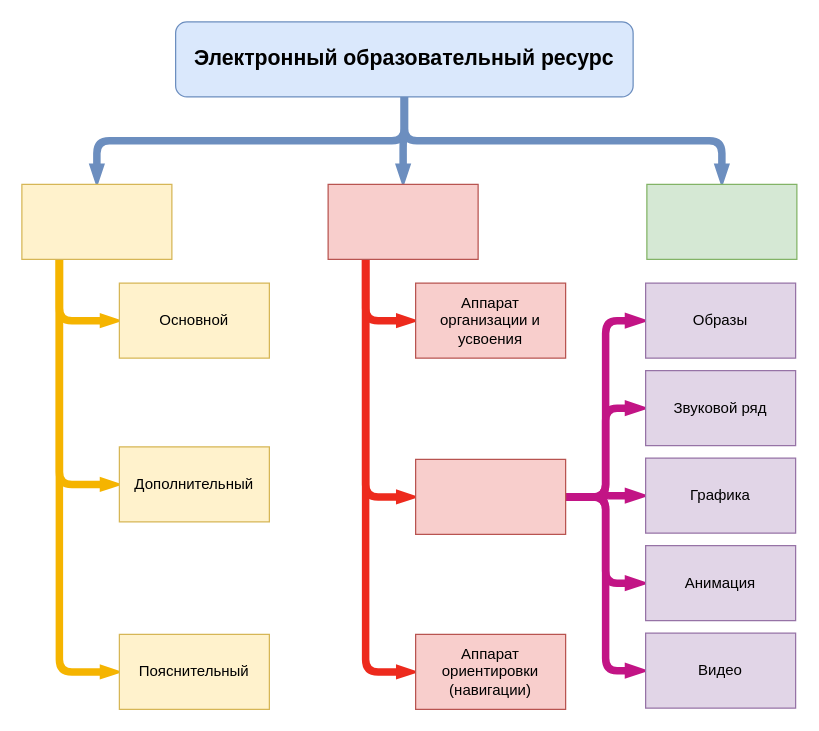
The diagram is 819 pixels wide and 731 high, and some of its shapes have lost their labels. Here are the shapes that lost their labels. From the top down, the centre of each, then its label:
[96,221]: Тексты
[402,221]: Внетекстовые компоненты
[721,221]: Рефллексия
[490,496]: Иллюстрации
